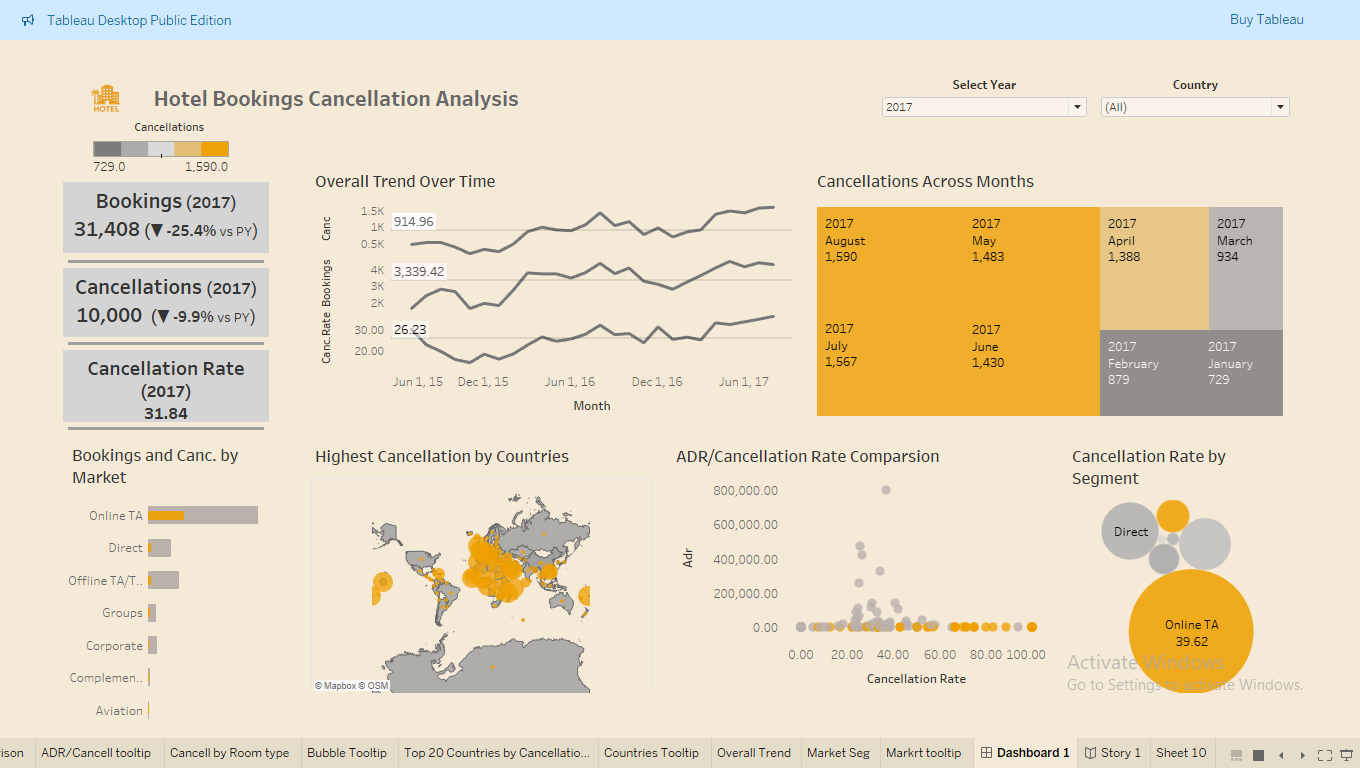

The dashboard page shown, as its layout file describes it:
{"tool":"tableau","page":{"name":"Dashboard 1","canvas":[1250,650],"ordinal":0},"visuals":[{"type":"image","param":"C:/Users/user/Downloads/logo.png","box":[8,8,84,52]},{"type":"text","box":[92,8,408,52]},{"type":"blank","box":[500,8,320,52]},{"type":"parameter","param":"[Parameters].[Parameter 1]","box":[820,8,219,52]},{"type":"filter","title":"ADR/Canc Comparison","param":"[federated.0xgzfqo1l9e6ll1ehc1l503roe4i].[none:country:nk]","box":[1039,8,203,52]},{"type":"legend","title":"Treemap","param":"[federated.0xgzfqo1l9e6ll1ehc1l503roe4i].[usr:Calculation_656962642915577879:qk]","box":[34,55,144,53]},{"type":"worksheet","title":"Overall Trend","mark":"Line","rows":["Calculation_656962642915577879","Calculation_656962642915332118","Calculation_656962642908737556"],"cols":["Calculation_656962642917908506"],"box":[246.1,91.8,502,275]},{"type":"worksheet","title":"Treemap","mark":"Automatic","box":[748.1,91.8,494.3,275]},{"type":"worksheet","title":"KPI Bookings","mark":"Automatic","box":[3,113,216,83]},{"type":"blank","box":[3,196,216,3]},{"type":"worksheet","title":"KPI Cancellations","mark":"Text","box":[3,199,216,79]},{"type":"blank","box":[3,278,216,3]},{"type":"worksheet","title":"Cancellation Rate","mark":"Automatic","box":[3,281,216,82]},{"type":"blank","box":[3,363,216,3]},{"type":"worksheet","title":"Top 20 Countries by Cancellation (2)","mark":"Multipolygon","box":[246.1,366.8,361,272.6]},{"type":"worksheet","title":"ADR/Canc Comparison","mark":"Automatic","rows":["adr"],"cols":["Calculation_656962642908737556"],"box":[607.1,366.8,396,272.6]},{"type":"worksheet","title":"Cancell by Room type","mark":"Circle","box":[1003.1,366.8,239.3,272.6]}]}

Visuals, with their boxes on the page's 1250x650 design canvas (x1, y1, x2, y2). These are canvas units, not pixel positions in the 1360x768 screenshot, which may show the page scaled, cropped or inside an application window:
image: (x1=8, y1=8, x2=92, y2=60)
text: (x1=92, y1=8, x2=500, y2=60)
blank: (x1=500, y1=8, x2=820, y2=60)
parameter: (x1=820, y1=8, x2=1039, y2=60)
"ADR/Canc Comparison" filter: (x1=1039, y1=8, x2=1242, y2=60)
"Treemap" legend: (x1=34, y1=55, x2=178, y2=108)
"Overall Trend" worksheet (Line marks): (x1=246, y1=92, x2=748, y2=367)
"Treemap" worksheet: (x1=748, y1=92, x2=1242, y2=367)
"KPI Bookings" worksheet: (x1=3, y1=113, x2=219, y2=196)
blank: (x1=3, y1=196, x2=219, y2=199)
"KPI Cancellations" worksheet (Text marks): (x1=3, y1=199, x2=219, y2=278)
blank: (x1=3, y1=278, x2=219, y2=281)
"Cancellation Rate" worksheet: (x1=3, y1=281, x2=219, y2=363)
blank: (x1=3, y1=363, x2=219, y2=366)
"Top 20 Countries by Cancellation (2)" worksheet (Multipolygon marks): (x1=246, y1=367, x2=607, y2=639)
"ADR/Canc Comparison" worksheet: (x1=607, y1=367, x2=1003, y2=639)
"Cancell by Room type" worksheet (Circle marks): (x1=1003, y1=367, x2=1242, y2=639)
